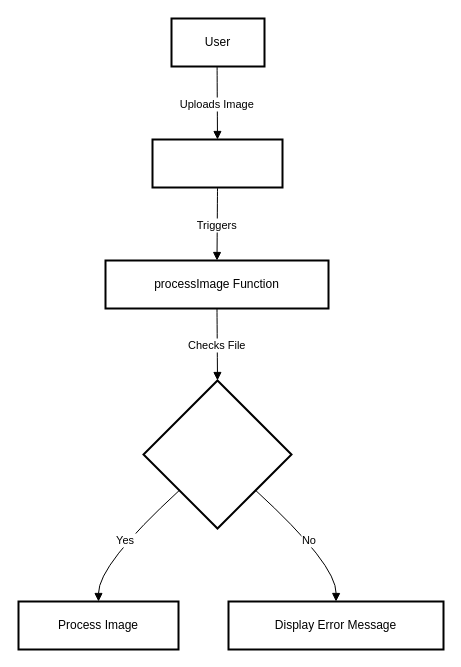
This 461x667 diagram has some shape labels left out. Each missing label, with the centre of its shape:
"File Selected?" belongs at point (217, 454).
"Task Pane" belongs at point (217, 163).
